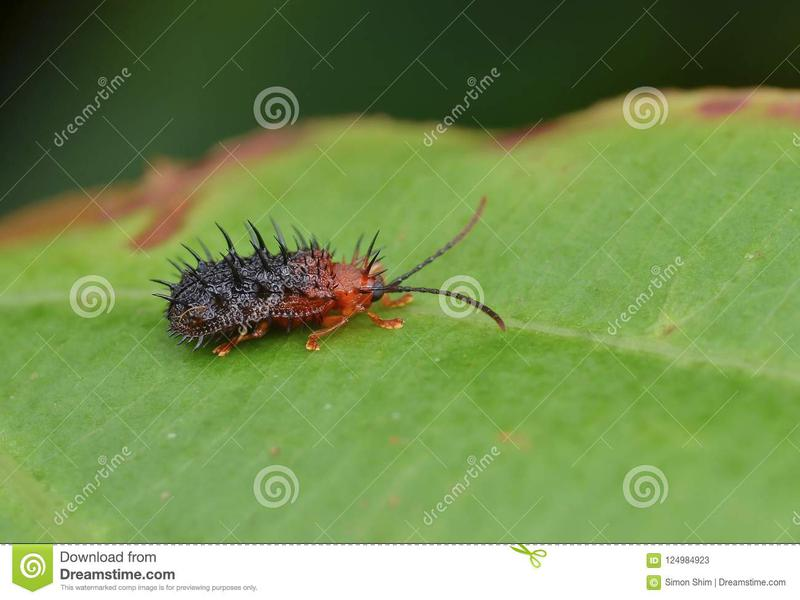Spiny_beetle: (142, 216, 418, 362)
